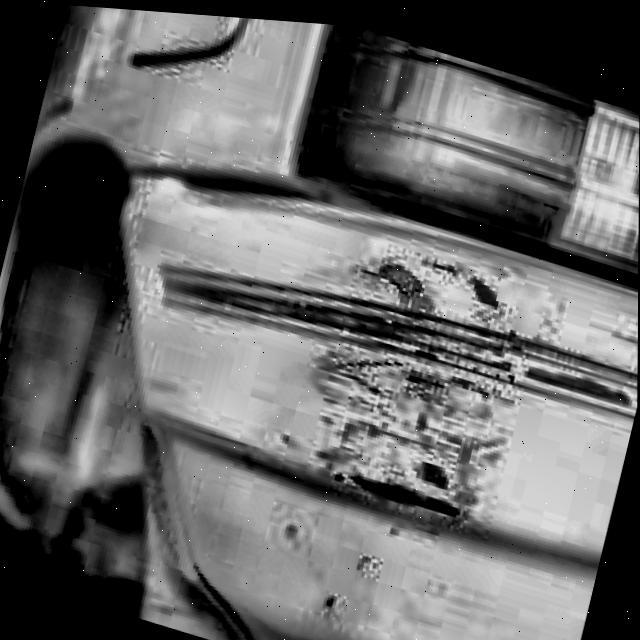bumper_scratch: (309, 235, 534, 532), (286, 580, 477, 640)
